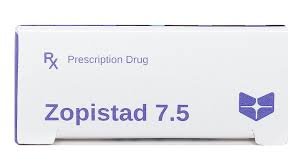Zopitad: (46, 106, 146, 122)
